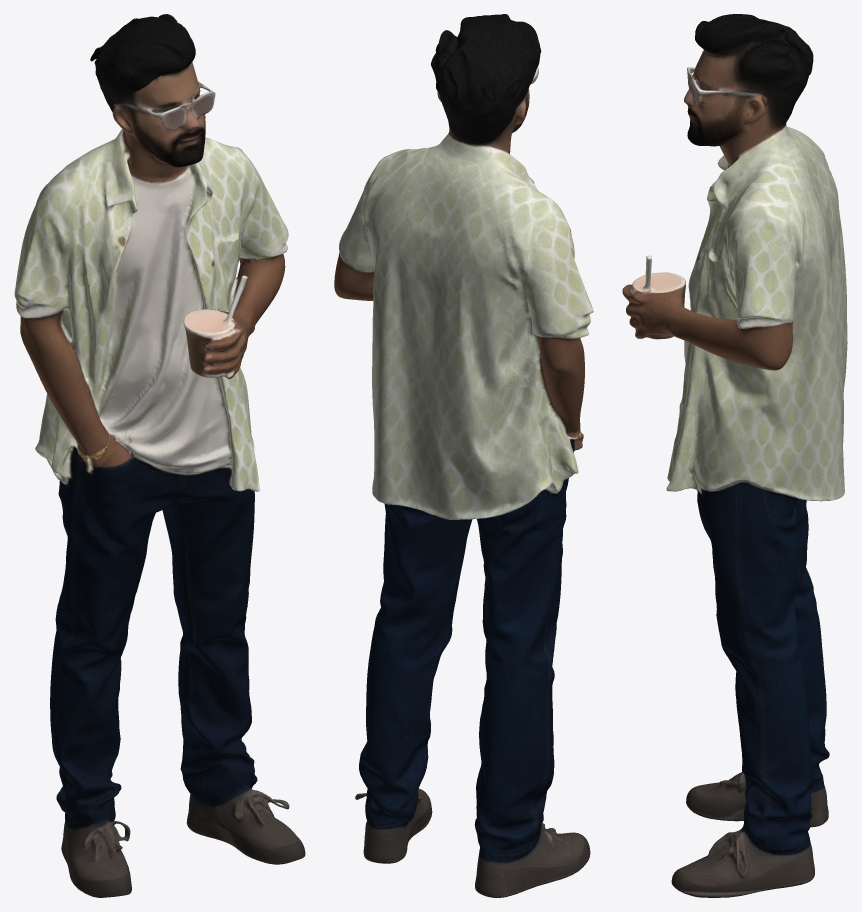
Rendered from amit-verma.glb.
The picture shows the model from 3 angles, left to right: view 1: azimuth 30°, elevation 25°; view 2: azimuth 150°, elevation 25°; view 3: azimuth 270°, elevation 25°; orthographic projection.
Bounding box in the file's own units: 0.6176 × 1.9 × 0.4719.
1 material, 1 textured.
